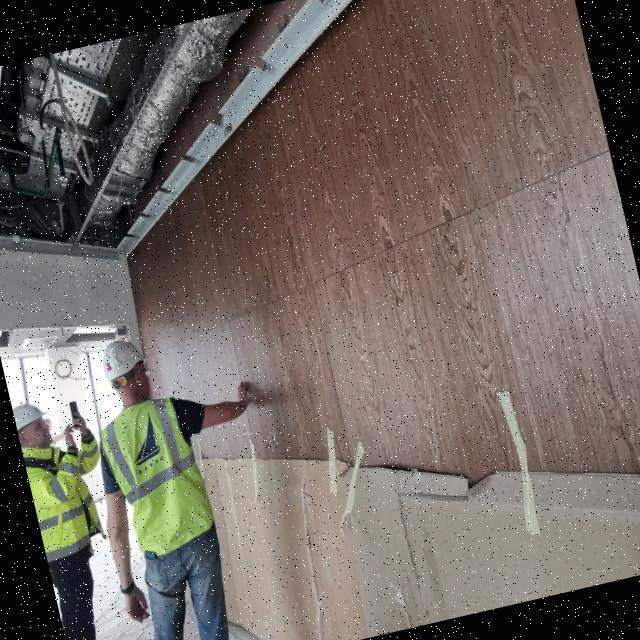Helmet: (98, 333, 160, 416), (13, 398, 59, 458)
